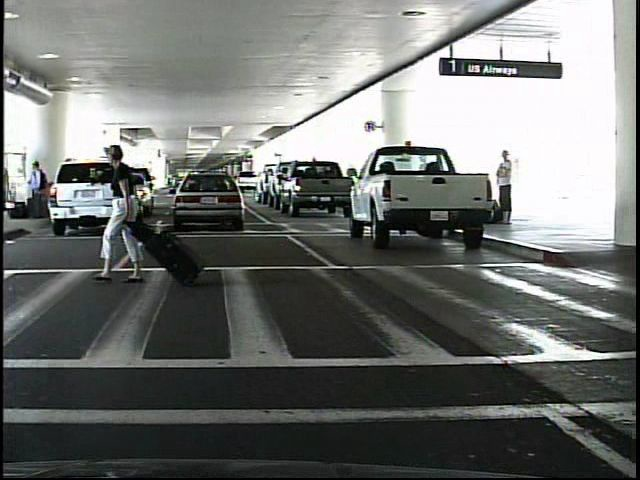person: (99, 145, 165, 288), (485, 151, 523, 225), (28, 158, 48, 220)
